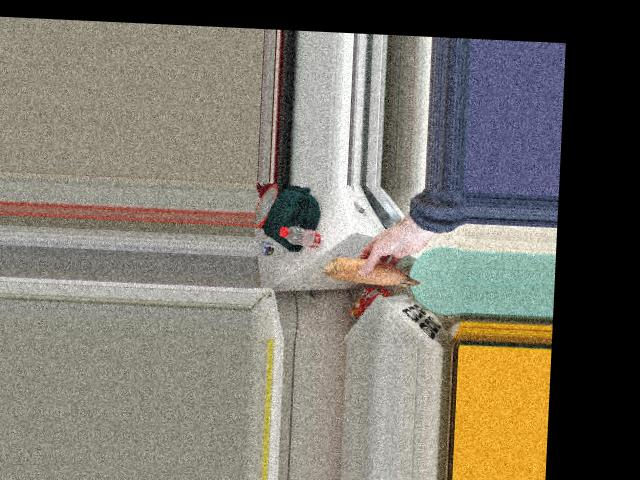sweet_potato: (321, 252, 419, 287)
